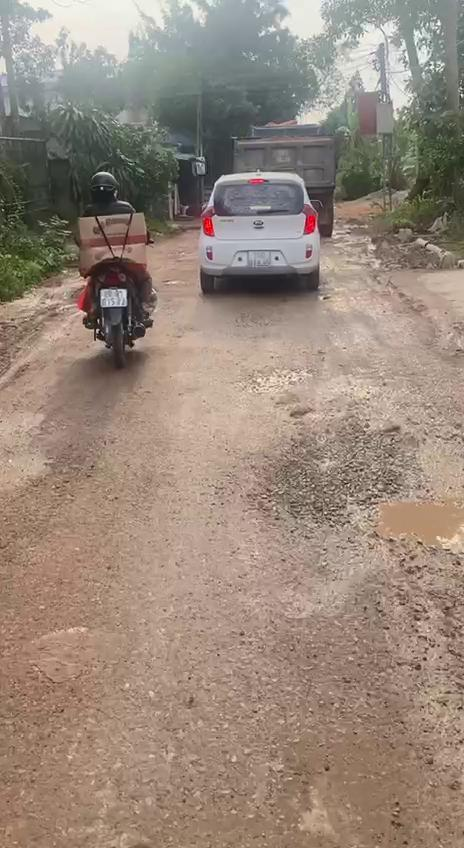pothole: (256, 423, 464, 562)
